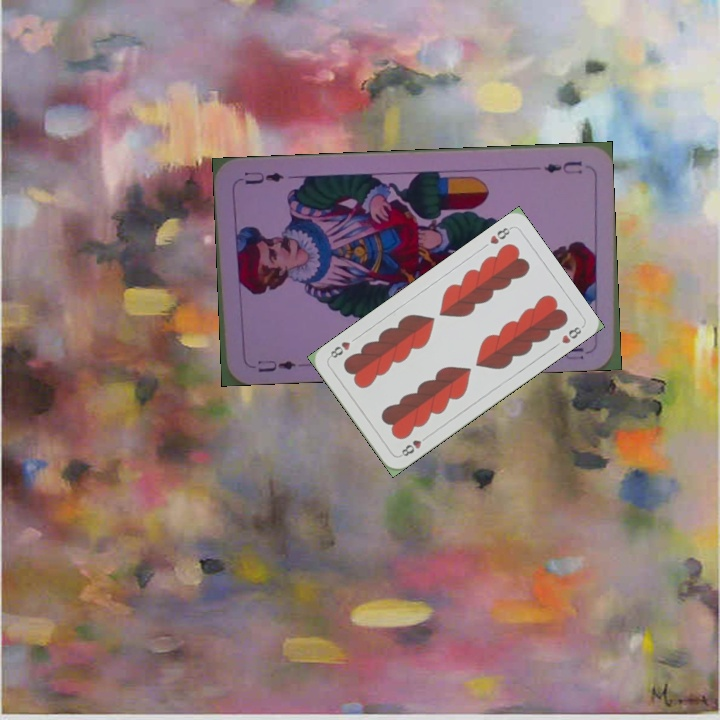EU: (541, 157, 585, 177), (253, 356, 299, 375)
H8: (396, 431, 431, 459), (486, 223, 514, 247)
